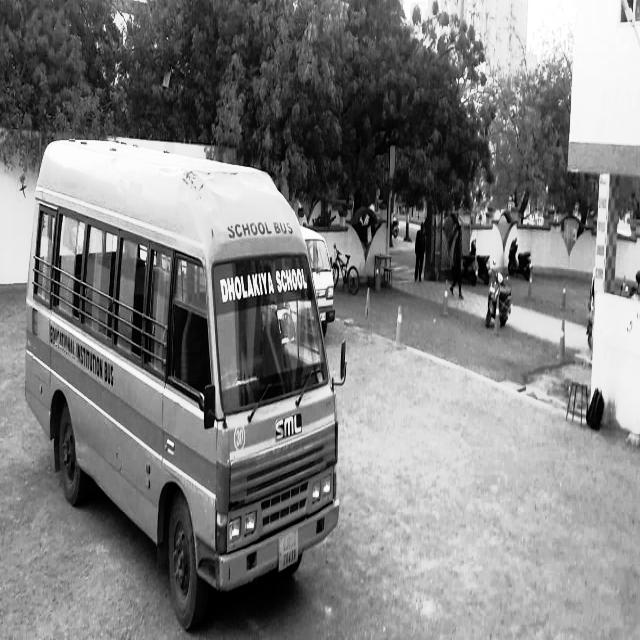Bus: (14, 108, 363, 627)
